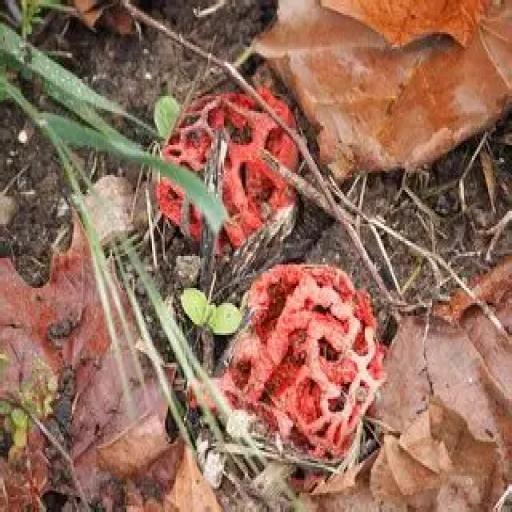mushroom: (202, 246, 415, 468), (144, 87, 299, 247)
